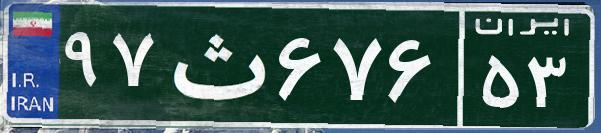3: (525, 38, 570, 115)
5: (475, 38, 525, 113)
6: (385, 28, 445, 110), (273, 28, 330, 110)
7: (330, 28, 385, 110), (110, 28, 158, 105)
9: (57, 26, 110, 107)
ث: (158, 15, 273, 115)
